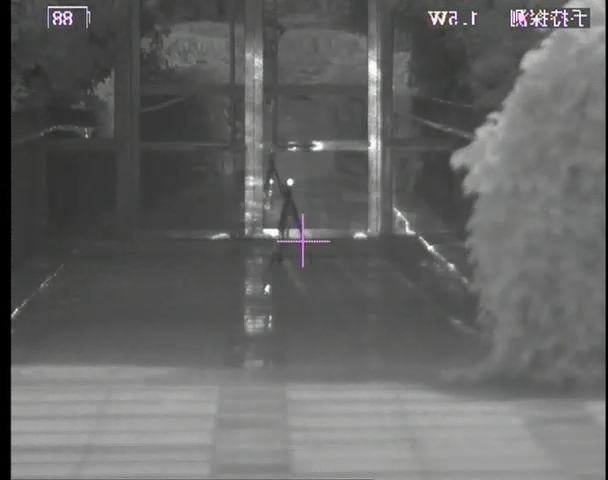my: (286, 178, 295, 187)
